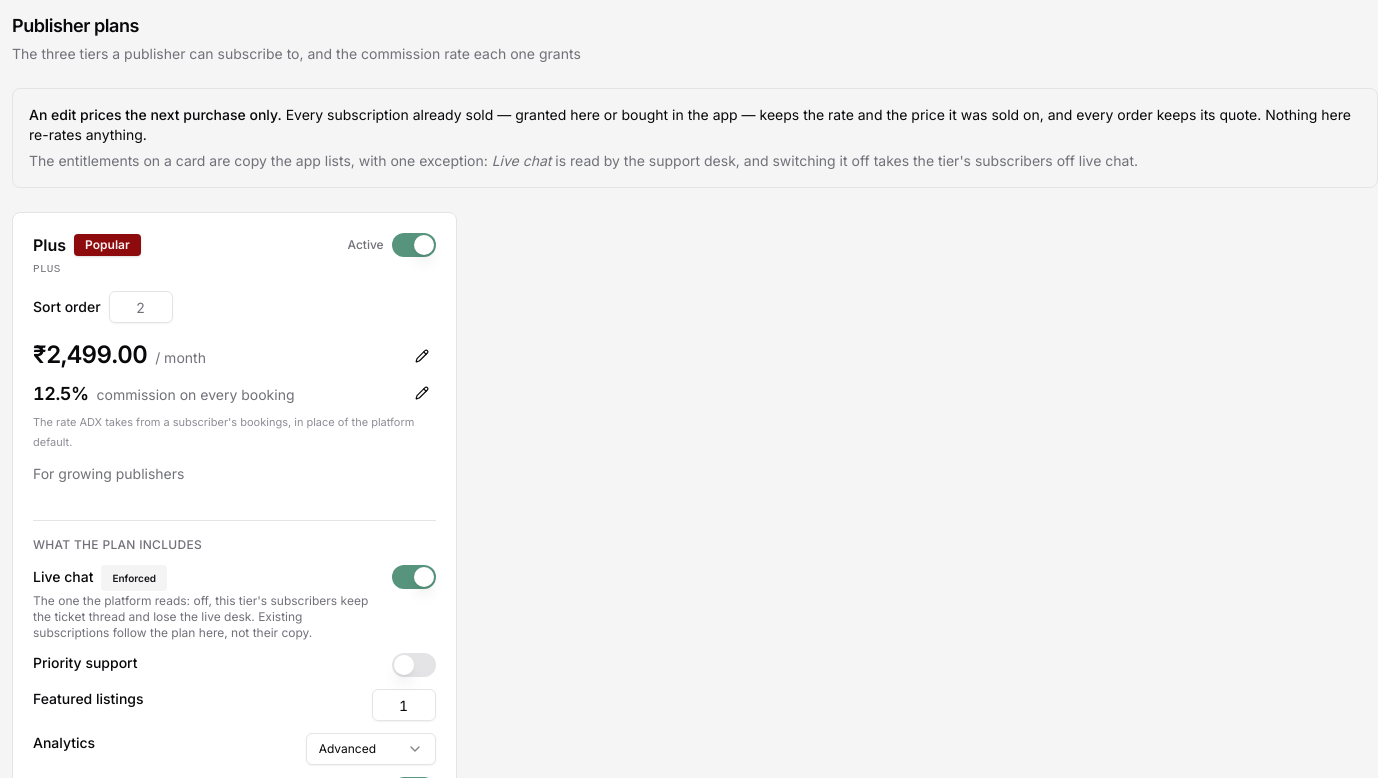
it: the editor's PATCH › refuses a rate that is not a percentage in bounds
Step 1. Click the button named "Edit Plus commission rate" → (422, 393), box [408, 379, 436, 407]
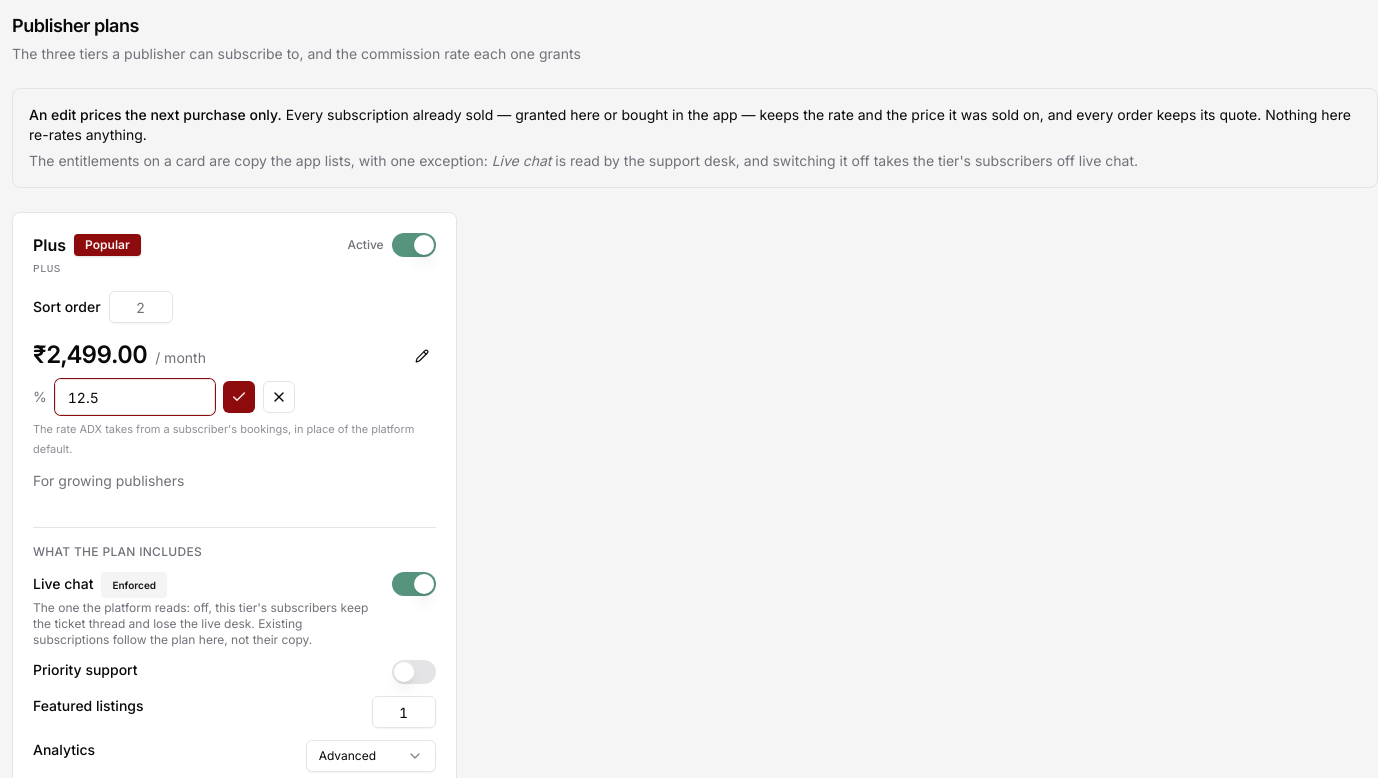
Step 2. Replace the text in the field named "Plus commission rate" with "120" → (135, 397), box [55, 379, 215, 415]
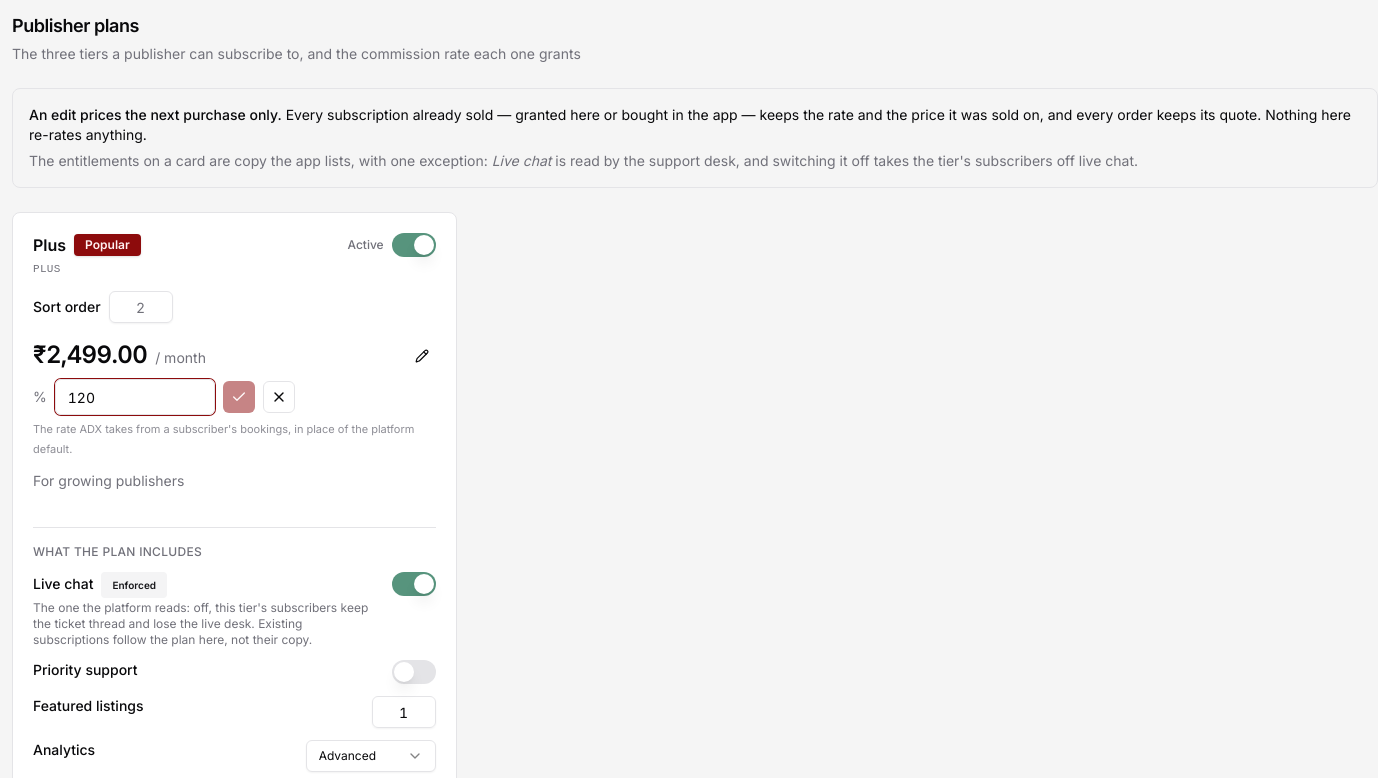
Expected: the button named "Save Plus commission rate" is disabled, [223, 381, 255, 413]
